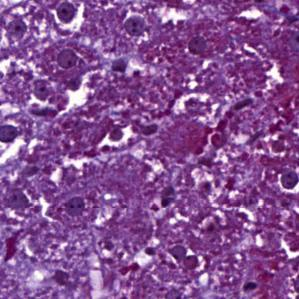inflammation: (174, 91, 214, 124), (0, 118, 27, 154), (50, 2, 83, 31), (273, 166, 299, 193), (104, 125, 131, 150)
